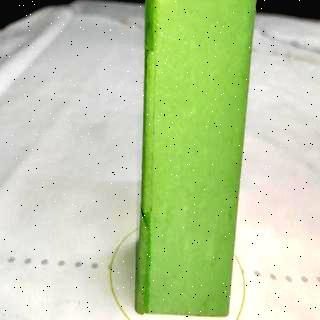greenbox: (133, 0, 259, 320)
